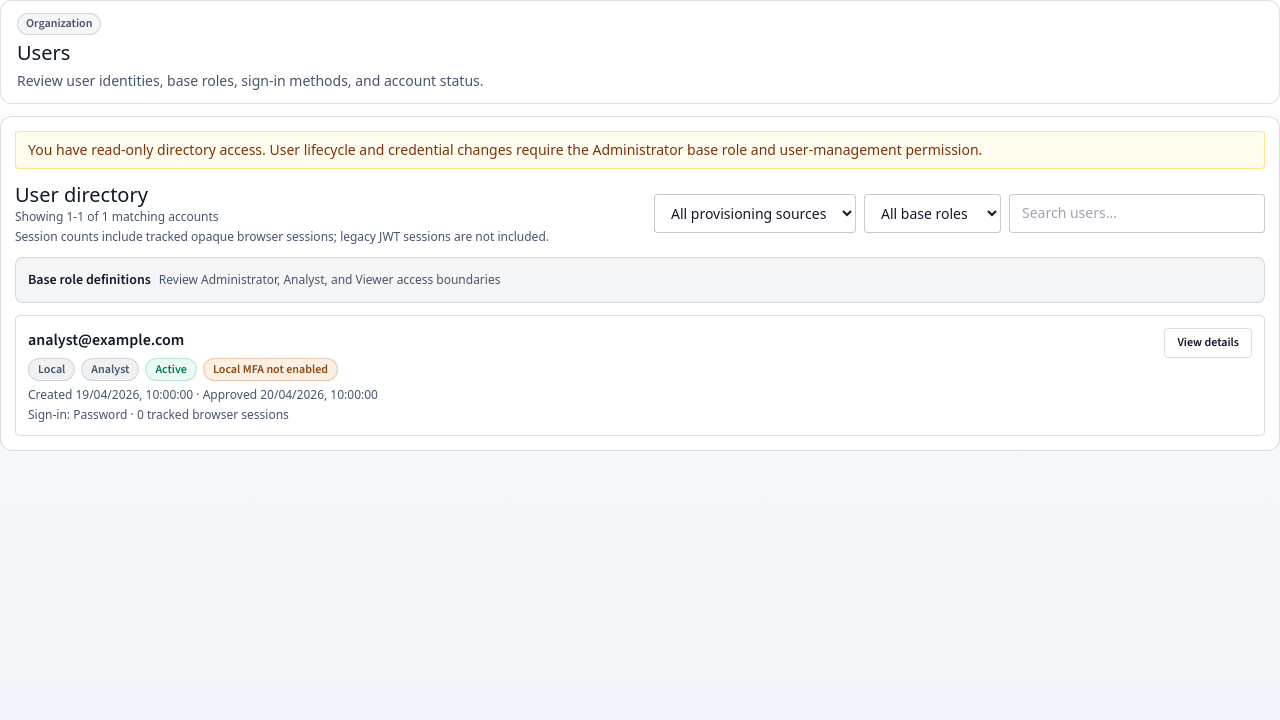
UsersPage DOM workflows › keeps delegated directory readers in an explicit read-only state
The image size is (1280, 720).
Click the button "View details" at (1208, 343), box left=1164, top=328, right=1252, bottom=358
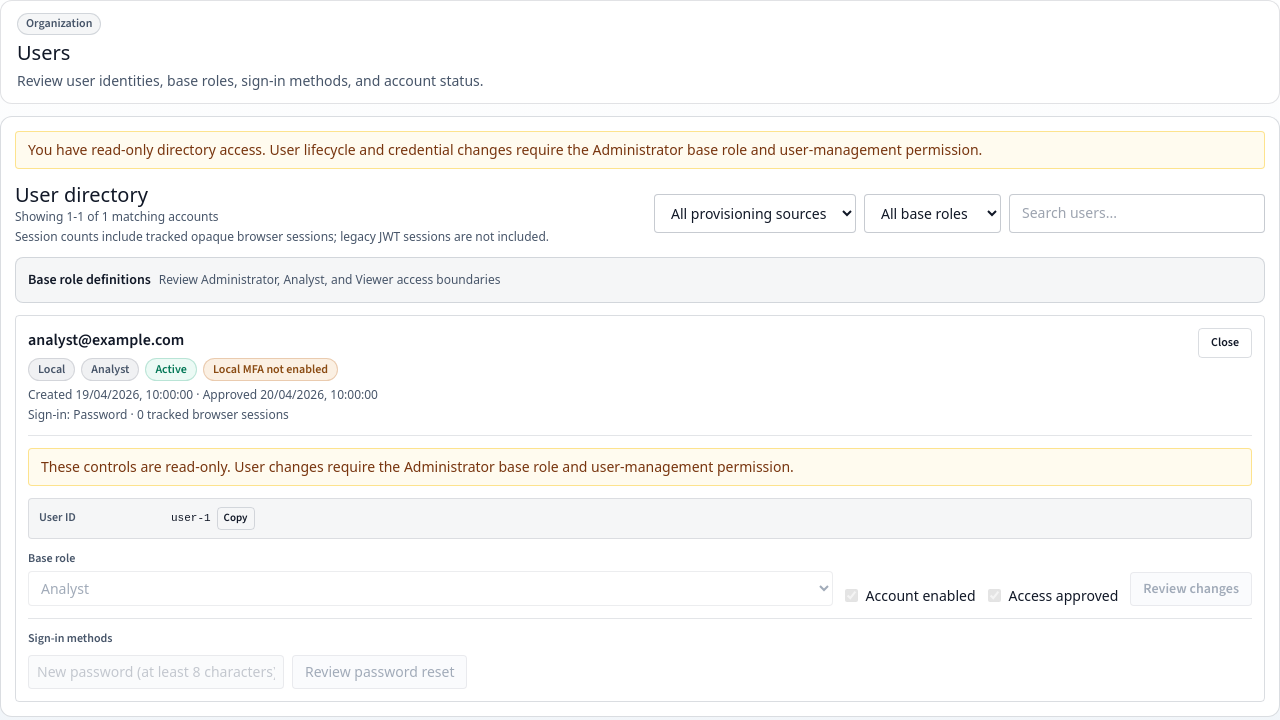
Expected: the button "Review changes" is disabled, left=1130, top=572, right=1252, bottom=606
